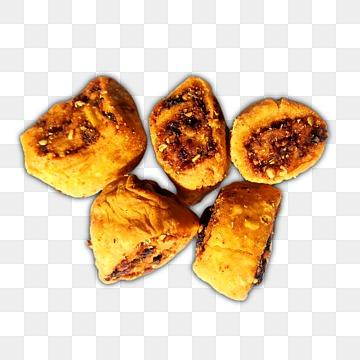bhakarwadi: (21, 59, 330, 297)
